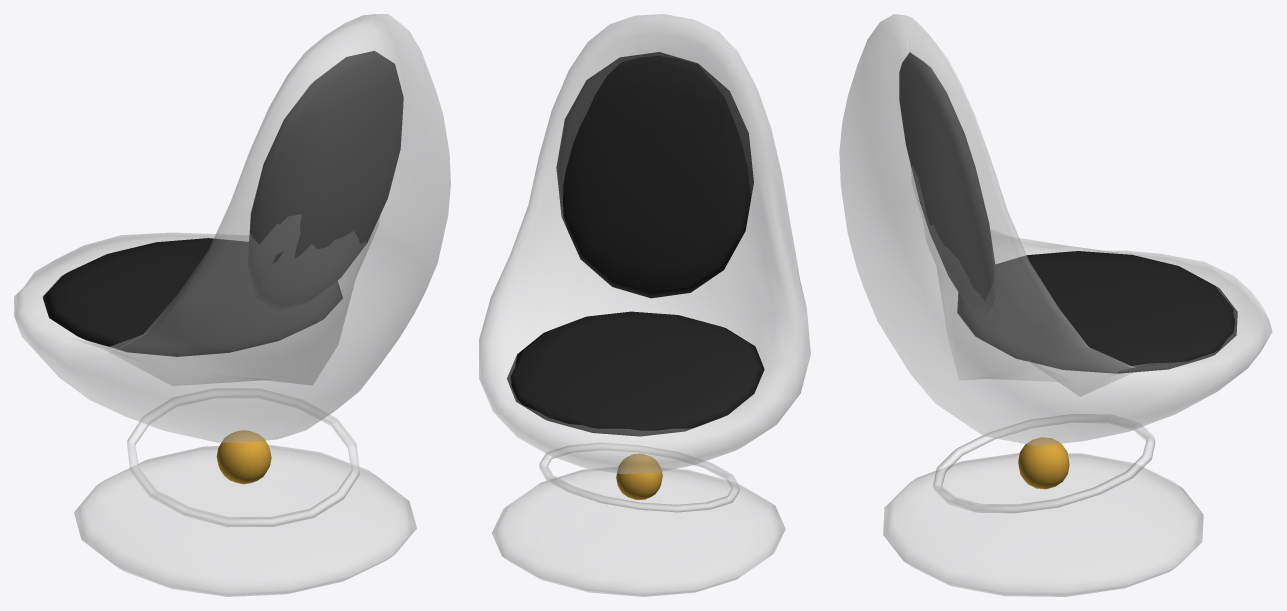
The model's file is White room Chair Brennan.fbx.
The picture shows the model from 3 angles, left to right: view 1: azimuth 30°, elevation 25°; view 2: azimuth 150°, elevation 25°; view 3: azimuth 270°, elevation 25°; orthographic projection. The views are drawn at different scales.
Parts seen in each view (by area): view 1: Chair Brennan; view 2: Chair Brennan; view 3: Chair Brennan.
Part boxes in pixels (<box>): Chair Brennan: <box>14,14,450,596</box>; Chair Brennan: <box>479,14,810,596</box>; Chair Brennan: <box>839,14,1272,596</box>.
Size of the model in its own units: 1.13 by 1.79 by 1.3.
